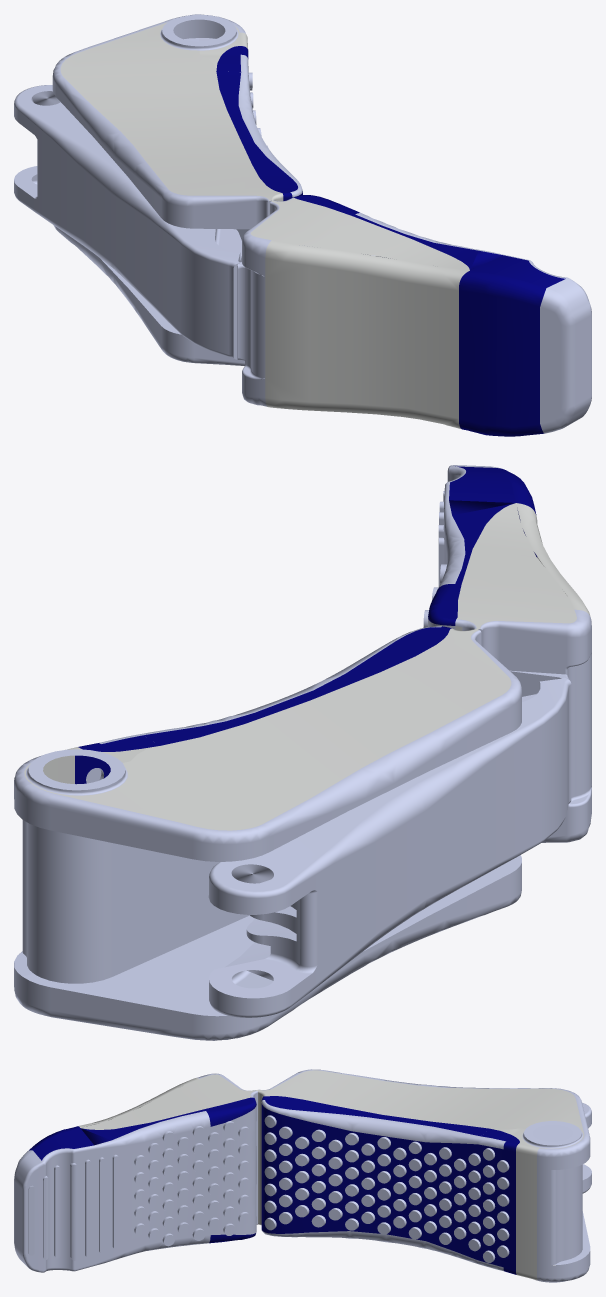
Rendered from Gen3Lite_j5_1.gltf.
3 renders of one model, top to bottom at view 1: azimuth 30°, elevation 25°; view 2: azimuth 150°, elevation 25°; view 3: azimuth 270°, elevation 25°, orthographic. The views are drawn at different scales.
Visible parts, largest first — view 1: Fusion; view 2: Fusion; view 3: Fusion.
Part boxes in pixels (bbox=[...]): Fusion: bbox=[14, 14, 591, 436]; Fusion: bbox=[14, 465, 591, 1040]; Fusion: bbox=[14, 1069, 591, 1282].
Size of the model in its own units: 0.0344 by 0.0241 by 0.0921.
